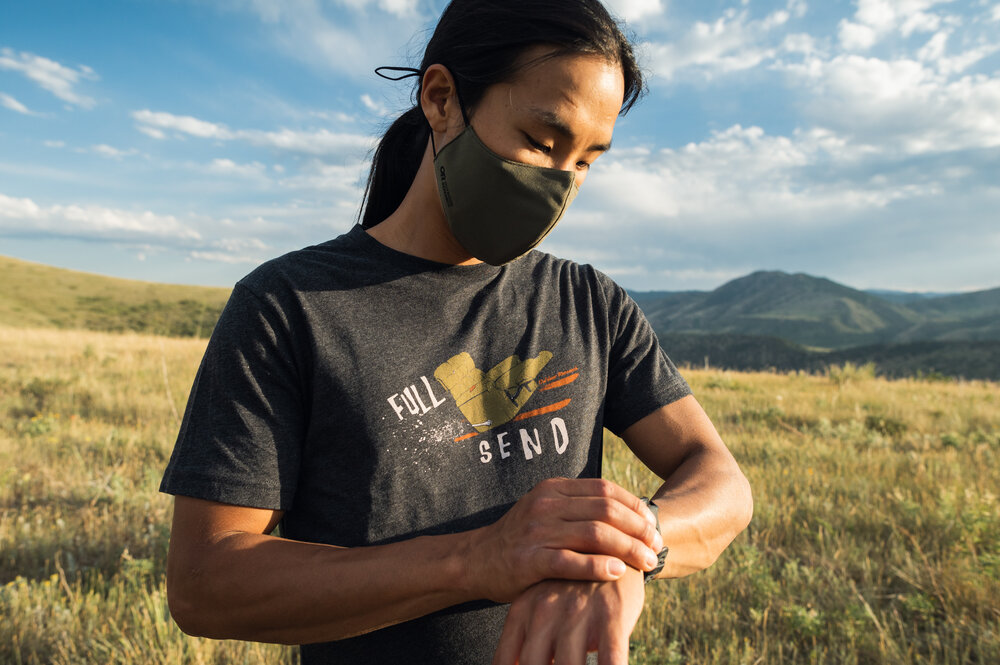with_mask: (460, 51, 595, 222)
